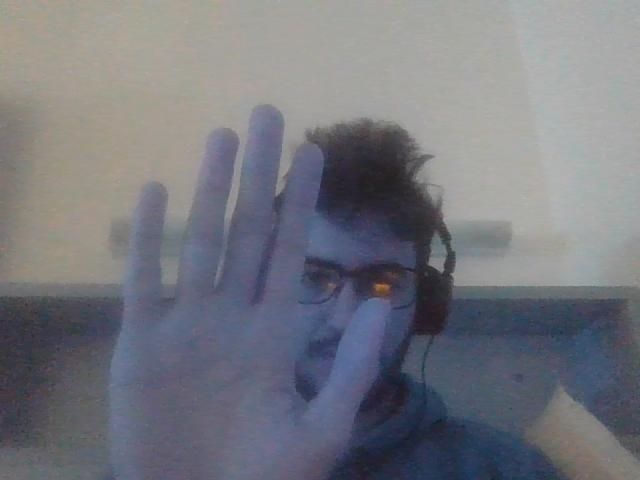Hello: (113, 101, 390, 474)
